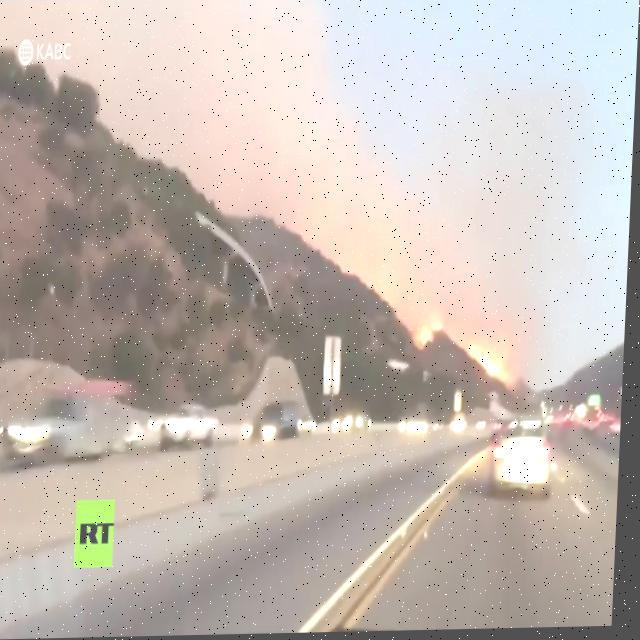Fire: (471, 344, 511, 378), (423, 315, 447, 345)
